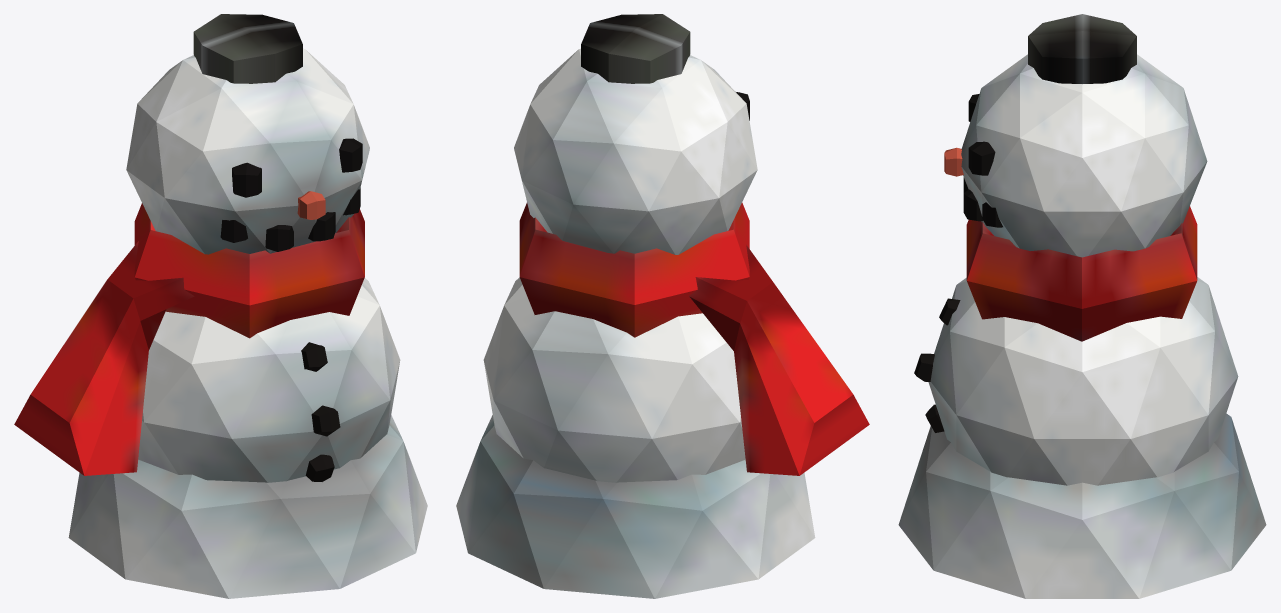
The model's file is Poly_Snowman_01.obj.
3 renders of one model, left to right at view 1: azimuth 30°, elevation 25°; view 2: azimuth 150°, elevation 25°; view 3: azimuth 270°, elevation 25°, orthographic.
Visible parts, largest first — view 1: Icosphere.002, Icosphere, Icosphere.001, Icosphere.004, Cube.002, Cube, Icosphere.003; view 2: Icosphere.002, Icosphere, Icosphere.001, Icosphere.004, Cube.002, Cube; view 3: Icosphere, Icosphere.002, Icosphere.001, Cube.002, Cube, Icosphere.003, Icosphere.004.
Boxes of the visible parts, x1,y1,x2,y2 form: Icosphere.002: [68, 415, 427, 598]; Icosphere: [138, 278, 400, 482]; Icosphere.001: [126, 48, 369, 254]; Icosphere.004: [14, 191, 340, 481]; Cube.002: [134, 203, 364, 338]; Cube: [193, 14, 302, 83]; Icosphere.003: [220, 138, 362, 251]; Icosphere.002: [456, 415, 815, 598]; Icosphere: [483, 277, 745, 482]; Icosphere.001: [514, 48, 757, 254]; Icosphere.004: [689, 244, 869, 475]; Cube.002: [519, 202, 749, 337]; Cube: [581, 14, 690, 83]; Icosphere: [928, 277, 1238, 485]; Icosphere.002: [898, 413, 1266, 598]; Icosphere.001: [961, 54, 1207, 257]; Cube.002: [966, 206, 1197, 341]; Cube: [1028, 14, 1136, 83]; Icosphere.003: [963, 94, 1002, 227]; Icosphere.004: [914, 147, 963, 432].
Size of the model in its own units: 0.9996 by 1.34 by 0.9077.
1 material, 1 textured.
